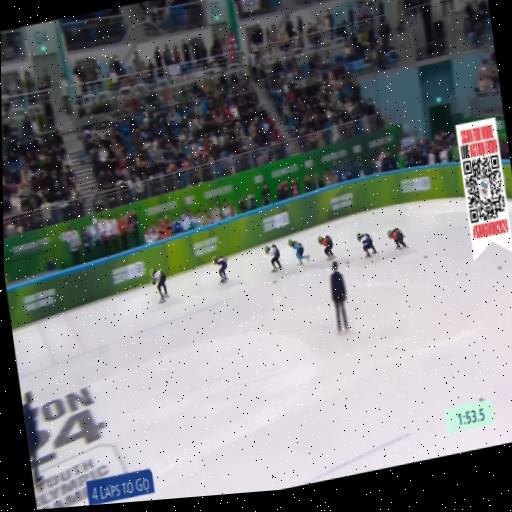Skater: (149, 268, 169, 303), (288, 239, 309, 264), (357, 233, 377, 257), (265, 244, 281, 272), (318, 236, 335, 260), (212, 256, 227, 283), (388, 228, 407, 249)
